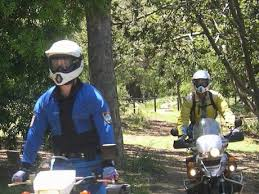helmet: (45, 39, 85, 84), (191, 69, 212, 94)
